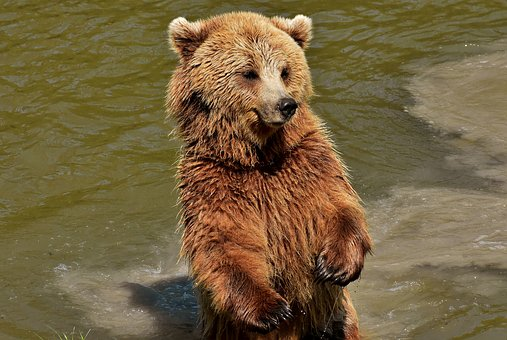bear: (161, 14, 330, 137)
